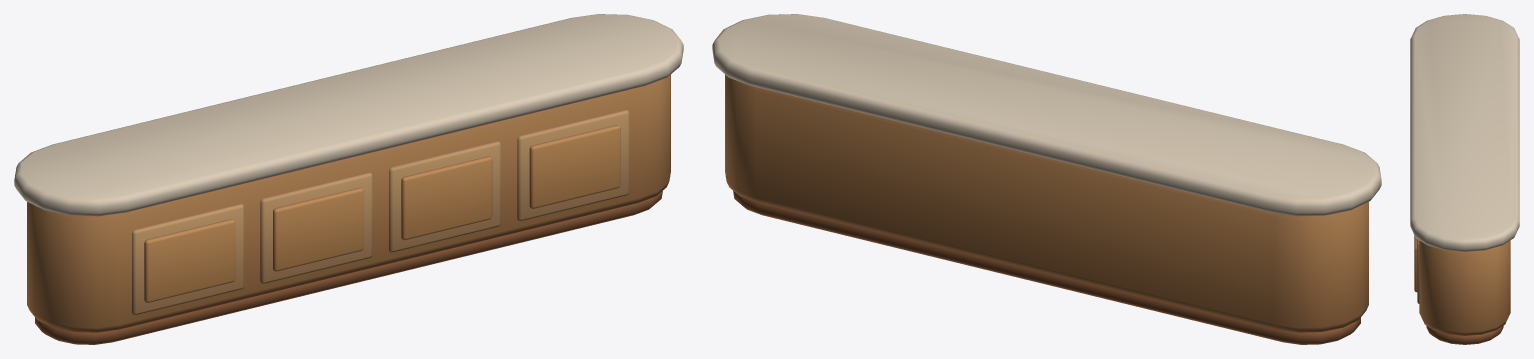
Rendered from counter_classic.glb.
3 views of the same model, side by side, from view 1: azimuth 30°, elevation 25°; view 2: azimuth 150°, elevation 25°; view 3: azimuth 270°, elevation 25° (orthographic). The views are drawn at different scales.
Parts seen in each view (by area): view 1: counter_classic; view 2: counter_classic; view 3: counter_classic.
Boxes of the visible parts, bbox=[...] form: counter_classic: bbox=[14, 14, 683, 344]; counter_classic: bbox=[712, 14, 1381, 344]; counter_classic: bbox=[1410, 14, 1519, 344].
Bounding box in the file's own units: 4.76 × 1.08 × 0.9599.
